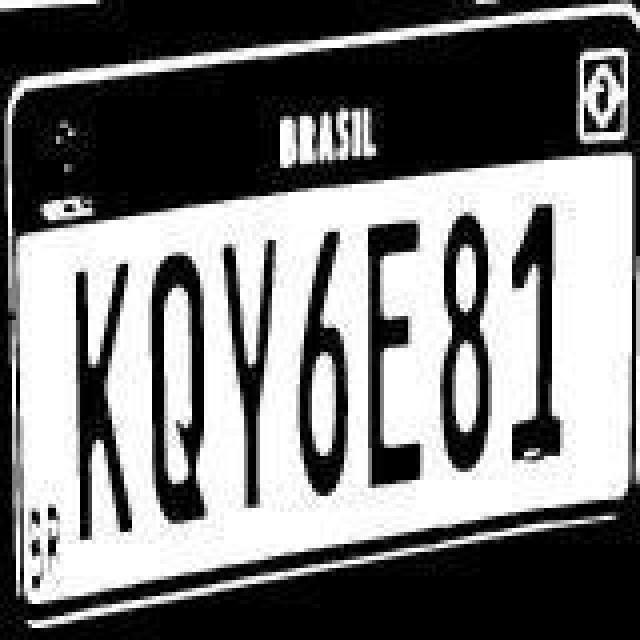1: (510, 186, 578, 478)
6: (296, 218, 352, 518)
8: (438, 194, 498, 486)
E: (364, 208, 428, 512)
K: (68, 244, 140, 548)
Q: (142, 232, 210, 536)
Y: (214, 220, 282, 516)
